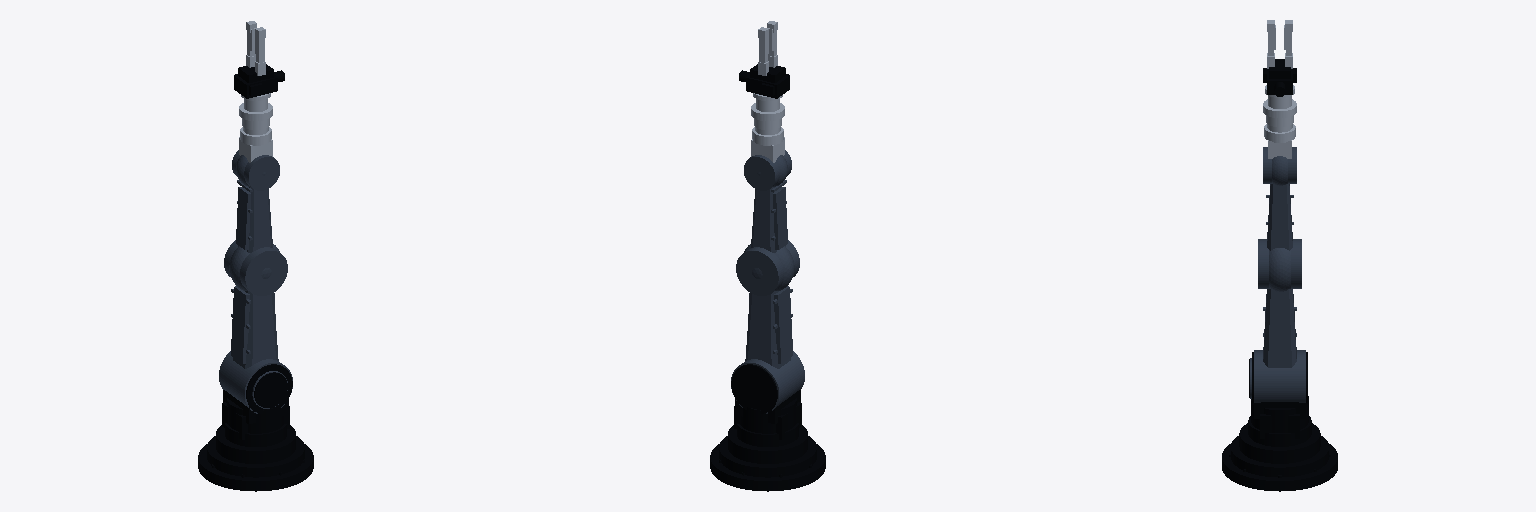
URDF robot description (the_turk_5dof):
<?xml version="1.0"?>

<robot name="the_turk_5dof">

  <!--
    TheTurk - 5 DOF Robotic Arm

    J1: Base Yaw
    J2: Shoulder Pitch
    J3: Elbow Pitch
    J4: Wrist Pitch
    J5: Wrist Roll

    + 1 DOF Parallel Gripper
  -->


  <!-- ========================= -->
  <!-- MATERIALS                 -->
  <!-- ========================= -->

  <material name="graphite">
    <color rgba="0.045 0.055 0.070 1"/>
  </material>

  <material name="gunmetal">
    <color rgba="0.24 0.28 0.34 1"/>
  </material>

  <material name="machined">
    <color rgba="0.62 0.66 0.72 1"/>
  </material>

  <material name="accent">
    <color rgba="0.06 0.28 0.55 1"/>
  </material>


  <!-- ========================= -->
  <!-- BASE LINK                 -->
  <!-- ========================= -->

  <link name="base_link">

    <inertial>
      <origin xyz="0 0 0.11"/>
      <mass value="6.0"/>

      <inertia
        ixx="0.12"
        ixy="0"
        ixz="0"
        iyy="0.12"
        iyz="0"
        izz="0.16"/>
    </inertial>

    <visual>
      <geometry>
        <mesh filename="package://the_turk_core/meshes/5dof/base_link.stl"/>
      </geometry>

      <material name="graphite"/>
    </visual>

    <collision>
      <origin xyz="0 0 0.11"/>

      <geometry>
        <cylinder radius="0.23" length="0.22"/>
      </geometry>
    </collision>

  </link>


  <!-- ========================= -->
  <!-- SHOULDER LINK             -->
  <!-- ========================= -->

  <link name="shoulder_link">

    <inertial>
      <origin xyz="0 0 0.12"/>
      <mass value="3.5"/>

      <inertia
        ixx="0.05"
        ixy="0"
        ixz="0"
        iyy="0.05"
        iyz="0"
        izz="0.04"/>
    </inertial>

    <visual>
      <geometry>
        <mesh filename="package://the_turk_core/meshes/5dof/shoulder_link.stl"/>
      </geometry>

      <material name="graphite"/>
    </visual>

    <collision>
      <origin xyz="0 0 0.12"/>

      <geometry>
        <box size="0.22 0.22 0.25"/>
      </geometry>
    </collision>

  </link>


  <!-- ========================= -->
  <!-- JOINT 1 - BASE YAW        -->
  <!-- ========================= -->

  <joint name="joint1_base_yaw" type="revolute">

    <parent link="base_link"/>
    <child link="shoulder_link"/>

    <origin xyz="0 0 0.18" rpy="0 0 0"/>

    <axis xyz="0 0 1"/>

    <limit
      lower="-3.14159"
      upper="3.14159"
      effort="60"
      velocity="1.5"/>

    <dynamics
      damping="0.8"
      friction="0.25"/>

  </joint>


  <!-- ========================= -->
  <!-- UPPER ARM LINK            -->
  <!-- ========================= -->

  <link name="upper_arm_link">

    <inertial>
      <origin xyz="0 0 0.25"/>
      <mass value="3.0"/>

      <inertia
        ixx="0.09"
        ixy="0"
        ixz="0"
        iyy="0.08"
        iyz="0"
        izz="0.025"/>
    </inertial>

    <visual>
      <geometry>
        <mesh filename="package://the_turk_core/meshes/5dof/upper_arm_link.stl"/>
      </geometry>

      <material name="gunmetal"/>
    </visual>

    <collision>
      <origin xyz="0 0 0.25"/>

      <geometry>
        <box size="0.17 0.16 0.50"/>
      </geometry>
    </collision>

  </link>


  <!-- ========================= -->
  <!-- JOINT 2 - SHOULDER PITCH  -->
  <!-- ========================= -->

  <joint name="joint2_shoulder_pitch" type="revolute">

    <parent link="shoulder_link"/>
    <child link="upper_arm_link"/>

    <origin xyz="0 0 0.205" rpy="0 0 0"/>

    <axis xyz="0 1 0"/>

    <limit
      lower="-1.74533"
      upper="1.5708"
      effort="55"
      velocity="1.3"/>

    <dynamics
      damping="0.7"
      friction="0.20"/>

  </joint>


  <!-- ========================= -->
  <!-- FOREARM LINK              -->
  <!-- ========================= -->

  <link name="forearm_link">

    <inertial>
      <origin xyz="0 0 0.215"/>
      <mass value="2.2"/>

      <inertia
        ixx="0.05"
        ixy="0"
        ixz="0"
        iyy="0.045"
        iyz="0"
        izz="0.016"/>
    </inertial>

    <visual>
      <geometry>
        <mesh filename="package://the_turk_core/meshes/5dof/forearm_link.stl"/>
      </geometry>

      <material name="gunmetal"/>
    </visual>

    <collision>
      <origin xyz="0 0 0.215"/>

      <geometry>
        <box size="0.14 0.14 0.43"/>
      </geometry>
    </collision>

  </link>


  <!-- ========================= -->
  <!-- JOINT 3 - ELBOW PITCH     -->
  <!-- ========================= -->

  <joint name="joint3_elbow_pitch" type="revolute">

    <parent link="upper_arm_link"/>
    <child link="forearm_link"/>

    <origin xyz="0 0 0.50" rpy="0 0 0"/>

    <axis xyz="0 1 0"/>

    <limit
      lower="-2.35619"
      upper="2.35619"
      effort="40"
      velocity="1.5"/>

    <dynamics
      damping="0.6"
      friction="0.18"/>

  </joint>


  <!-- ========================= -->
  <!-- WRIST PITCH LINK          -->
  <!-- ========================= -->

  <link name="wrist_pitch_link">

    <inertial>
      <origin xyz="0 0 0.09"/>
      <mass value="1.0"/>

      <inertia
        ixx="0.012"
        ixy="0"
        ixz="0"
        iyy="0.012"
        iyz="0"
        izz="0.009"/>
    </inertial>

    <visual>
      <geometry>
        <mesh filename="package://the_turk_core/meshes/5dof/wrist_pitch_link.stl"/>
      </geometry>

      <material name="machined"/>
    </visual>

    <collision>
      <origin xyz="0 0 0.09"/>

      <geometry>
        <cylinder radius="0.08" length="0.18"/>
      </geometry>
    </collision>

  </link>


  <!-- ========================= -->
  <!-- JOINT 4 - WRIST PITCH     -->
  <!-- ========================= -->

  <joint name="joint4_wrist_pitch" type="revolute">

    <parent link="forearm_link"/>
    <child link="wrist_pitch_link"/>

    <origin xyz="0 0 0.43" rpy="0 0 0"/>

    <axis xyz="0 1 0"/>

    <limit
      lower="-2.0944"
      upper="2.0944"
      effort="20"
      velocity="2.0"/>

    <dynamics
      damping="0.4"
      friction="0.10"/>

  </joint>


  <!-- ========================= -->
  <!-- WRIST ROLL LINK           -->
  <!-- ========================= -->

  <link name="wrist_roll_link">

    <inertial>
      <origin xyz="0 0 0.075"/>
      <mass value="0.65"/>

      <inertia
        ixx="0.006"
        ixy="0"
        ixz="0"
        iyy="0.006"
        iyz="0"
        izz="0.004"/>
    </inertial>

    <visual>
      <geometry>
        <mesh filename="package://the_turk_core/meshes/5dof/wrist_roll_link.stl"/>
      </geometry>

      <material name="machined"/>
    </visual>

    <collision>
      <origin xyz="0 0 0.075"/>

      <geometry>
        <cylinder radius="0.07" length="0.15"/>
      </geometry>
    </collision>

  </link>


  <!-- ========================= -->
  <!-- JOINT 5 - WRIST ROLL      -->
  <!-- ========================= -->

  <joint name="joint5_wrist_roll" type="revolute">

    <parent link="wrist_pitch_link"/>
    <child link="wrist_roll_link"/>

    <origin xyz="0 0 0.19" rpy="0 0 0"/>

    <axis xyz="0 0 1"/>

    <limit
      lower="-3.14159"
      upper="3.14159"
      effort="12"
      velocity="2.5"/>

    <dynamics
      damping="0.3"
      friction="0.08"/>

  </joint>


  <!-- ========================= -->
  <!-- GRIPPER BODY              -->
  <!-- ========================= -->

  <link name="gripper_link">

    <inertial>
      <origin xyz="0 0 0.055"/>
      <mass value="0.55"/>

      <inertia
        ixx="0.004"
        ixy="0"
        ixz="0"
        iyy="0.004"
        iyz="0"
        izz="0.005"/>
    </inertial>

    <visual>
      <geometry>
        <mesh filename="package://the_turk_core/meshes/5dof/gripper_link.stl"/>
      </geometry>

      <material name="graphite"/>
    </visual>

    <collision>
      <origin xyz="0 0 0.055"/>

      <geometry>
        <box size="0.15 0.12 0.11"/>
      </geometry>
    </collision>

  </link>


  <!-- ========================= -->
  <!-- FIXED TOOL MOUNT          -->
  <!-- ========================= -->

  <joint name="tool_mount_joint" type="fixed">

    <parent link="wrist_roll_link"/>
    <child link="gripper_link"/>

    <origin xyz="0 0 0.15" rpy="0 0 0"/>

  </joint>


  <!-- ========================= -->
  <!-- LEFT GRIPPER FINGER       -->
  <!-- ========================= -->

  <link name="left_finger_link">

    <inertial>
      <origin xyz="0 0 0.10"/>
      <mass value="0.12"/>

      <inertia
        ixx="0.0008"
        ixy="0"
        ixz="0"
        iyy="0.0008"
        iyz="0"
        izz="0.00015"/>
    </inertial>

    <visual>
      <geometry>
        <mesh filename="package://the_turk_core/meshes/5dof/left_finger_link.stl"/>
      </geometry>

      <material name="machined"/>
    </visual>

    <collision>
      <origin xyz="0 0 0.10"/>

      <geometry>
        <box size="0.04 0.03 0.20"/>
      </geometry>
    </collision>

  </link>


  <!-- ========================= -->
  <!-- GRIPPER ACTUATION         -->
  <!-- ========================= -->

  <joint name="gripper_joint" type="prismatic">

    <parent link="gripper_link"/>
    <child link="left_finger_link"/>

    <origin xyz="0 0.035 0.085" rpy="0 0 0"/>

    <axis xyz="0 1 0"/>

    <limit
      lower="0.0"
      upper="0.035"
      effort="30"
      velocity="0.08"/>

    <dynamics
      damping="0.25"
      friction="0.08"/>

  </joint>


  <!-- ========================= -->
  <!-- RIGHT GRIPPER FINGER      -->
  <!-- ========================= -->

  <link name="right_finger_link">

    <inertial>
      <origin xyz="0 0 0.10"/>
      <mass value="0.12"/>

      <inertia
        ixx="0.0008"
        ixy="0"
        ixz="0"
        iyy="0.0008"
        iyz="0"
        izz="0.00015"/>
    </inertial>

    <visual>
      <geometry>
        <mesh filename="package://the_turk_core/meshes/5dof/right_finger_link.stl"/>
      </geometry>

      <material name="machined"/>
    </visual>

    <collision>
      <origin xyz="0 0 0.10"/>

      <geometry>
        <box size="0.04 0.03 0.20"/>
      </geometry>
    </collision>

  </link>


  <!-- Right finger mirrors the left finger -->

  <joint name="right_finger_joint" type="prismatic">

    <parent link="gripper_link"/>
    <child link="right_finger_link"/>

    <origin xyz="0 -0.035 0.085" rpy="0 0 0"/>

    <axis xyz="0 -1 0"/>

    <limit
      lower="0.0"
      upper="0.035"
      effort="30"
      velocity="0.08"/>

    <mimic
      joint="gripper_joint"
      multiplier="1.0"
      offset="0.0"/>

    <dynamics
      damping="0.25"
      friction="0.08"/>

  </joint>

</robot>

--- What the picture shows (computed from the rendered views, not written in the file) ---
Views: 3 orthographic renders of the robot side by side, from view 1: azimuth 30°, elevation 25°; view 2: azimuth 150°, elevation 25°; view 3: azimuth 270°, elevation 25°.
Robot: the_turk_5dof — 9 links, 8 joints (5 revolute, 2 prismatic, 1 fixed); root link base_link; default pose: all joints at 0.
Visible links, largest first — view 1: upper_arm_link, base_link, forearm_link, shoulder_link, gripper_link, wrist_roll_link, wrist_pitch_link; view 2: upper_arm_link, base_link, forearm_link, shoulder_link, gripper_link, wrist_roll_link, wrist_pitch_link; view 3: upper_arm_link, base_link, forearm_link, shoulder_link, wrist_roll_link, gripper_link, wrist_pitch_link.
Link boxes in pixels (x1=…): upper_arm_link: x1=219, y1=240, x2=292, y2=413; base_link: x1=198, y1=402, x2=313, y2=491; forearm_link: x1=232, y1=150, x2=279, y2=252; shoulder_link: x1=223, y1=364, x2=292, y2=433; gripper_link: x1=234, y1=64, x2=284, y2=98; wrist_roll_link: x1=239, y1=93, x2=272, y2=129; wrist_pitch_link: x1=239, y1=127, x2=272, y2=162; upper_arm_link: x1=731, y1=240, x2=804, y2=413; base_link: x1=710, y1=402, x2=825, y2=491; forearm_link: x1=744, y1=150, x2=791, y2=252; shoulder_link: x1=731, y1=364, x2=800, y2=433; gripper_link: x1=739, y1=64, x2=789, y2=98; wrist_roll_link: x1=751, y1=93, x2=784, y2=129; wrist_pitch_link: x1=751, y1=127, x2=784, y2=162; upper_arm_link: x1=1250, y1=239, x2=1305, y2=402; base_link: x1=1222, y1=414, x2=1337, y2=491; forearm_link: x1=1263, y1=147, x2=1296, y2=250; shoulder_link: x1=1249, y1=352, x2=1308, y2=432; wrist_roll_link: x1=1263, y1=85, x2=1296, y2=126; gripper_link: x1=1263, y1=59, x2=1296, y2=96; wrist_pitch_link: x1=1264, y1=124, x2=1295, y2=158.
Bounding box of the posed robot: 0.46 × 0.46 × 1.94 m (x, y, z).
9 mesh visuals loaded from 9 distinct referenced files (9 binary STL).
